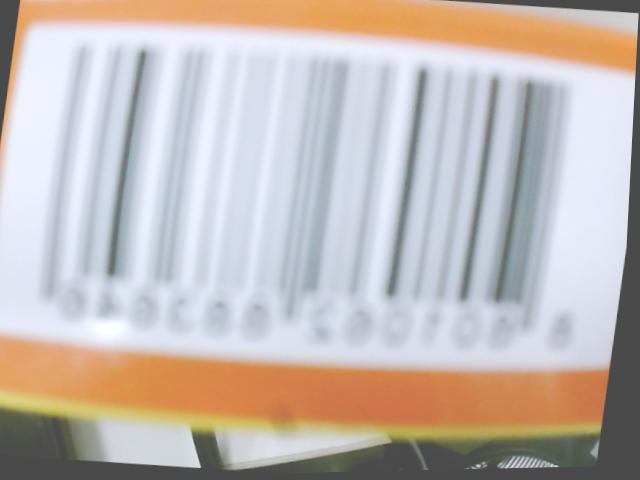crunchy-1500-2024-12-29: (0, 28, 634, 387)
